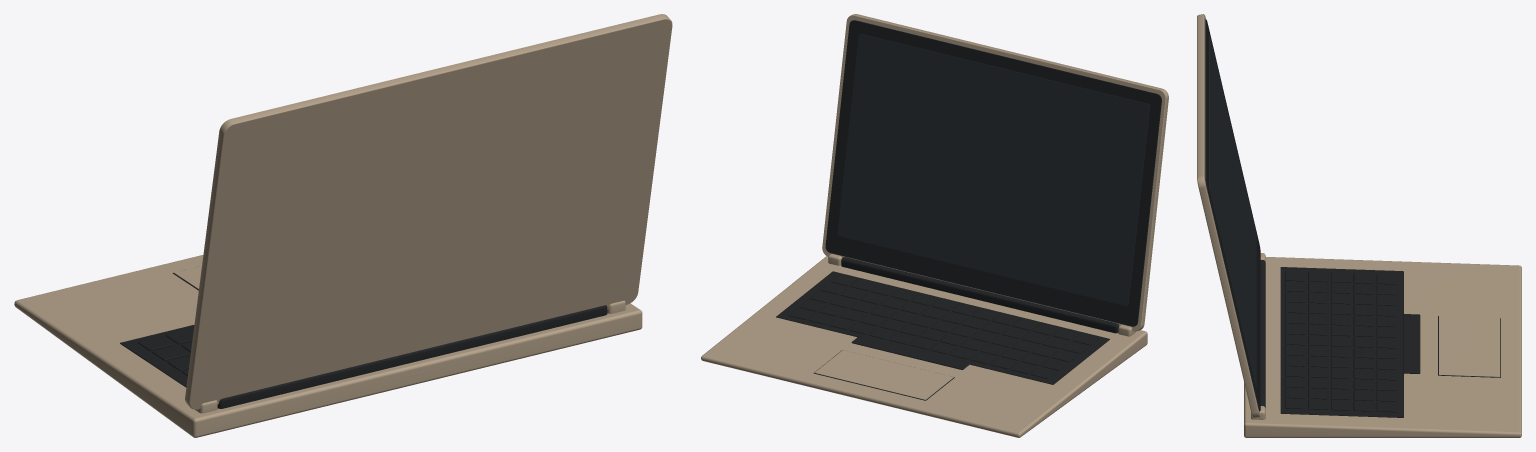
The model's file is shibu_hachi_counter_laptop.glb.
3 views of the same model, side by side, from view 1: azimuth 30°, elevation 25°; view 2: azimuth 150°, elevation 25°; view 3: azimuth 270°, elevation 25° (orthographic). The views are drawn at different scales.
Visible parts, largest first — view 1: Batch_01_Champagne_metal_observed_warm_light_estimate, Batch_02_Neutral_dark_hinge_and_estimated_input_details; view 2: Batch_03_Inactive_neutral_display_no_UI, Batch_02_Neutral_dark_hinge_and_estimated_input_details, Batch_01_Champagne_metal_observed_warm_light_estimate; view 3: Batch_01_Champagne_metal_observed_warm_light_estimate, Batch_02_Neutral_dark_hinge_and_estimated_input_details, Batch_03_Inactive_neutral_display_no_UI.
Part boxes in pixels (x1,y1,x2,y2): Batch_01_Champagne_metal_observed_warm_light_estimate: [14, 14, 672, 437]; Batch_02_Neutral_dark_hinge_and_estimated_input_details: [120, 272, 607, 408]; Batch_03_Inactive_neutral_display_no_UI: [837, 34, 1149, 305]; Batch_02_Neutral_dark_hinge_and_estimated_input_details: [776, 20, 1161, 400]; Batch_01_Champagne_metal_observed_warm_light_estimate: [701, 14, 1168, 437]; Batch_01_Champagne_metal_observed_warm_light_estimate: [1197, 14, 1521, 437]; Batch_02_Neutral_dark_hinge_and_estimated_input_details: [1205, 19, 1500, 417]; Batch_03_Inactive_neutral_display_no_UI: [1209, 35, 1256, 387].
Size of the model in its own units: 0.304 by 0.2199 by 0.2477.
